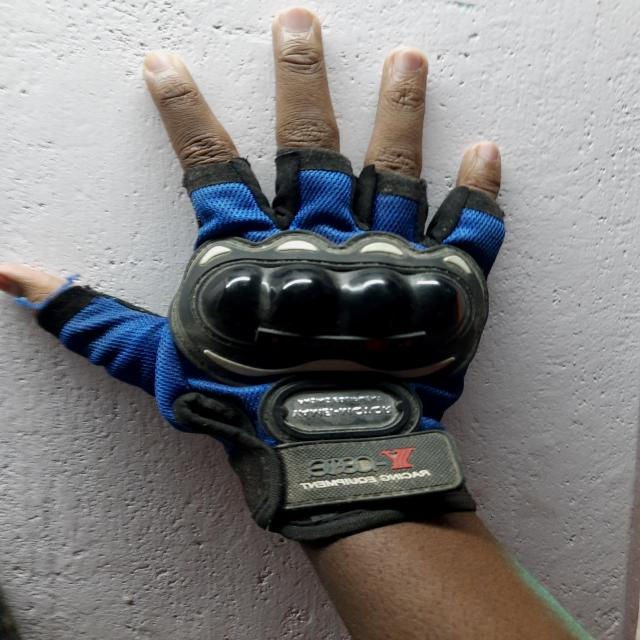glove: (39, 146, 522, 560)
